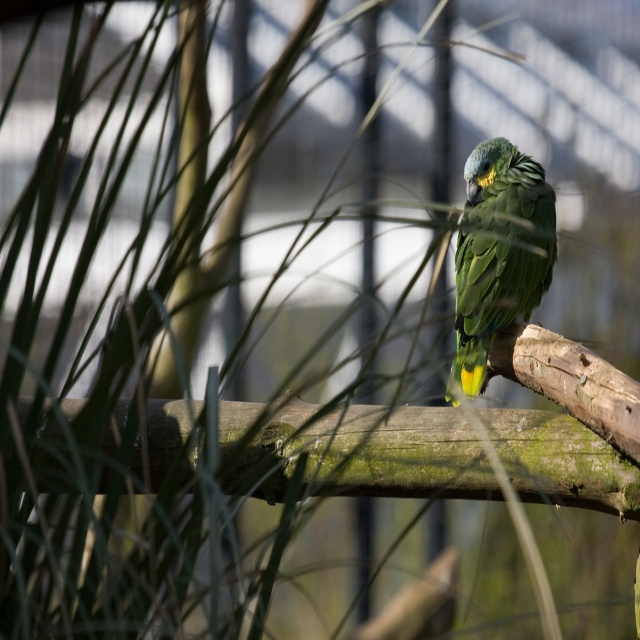Parrot: (446, 134, 560, 408)
